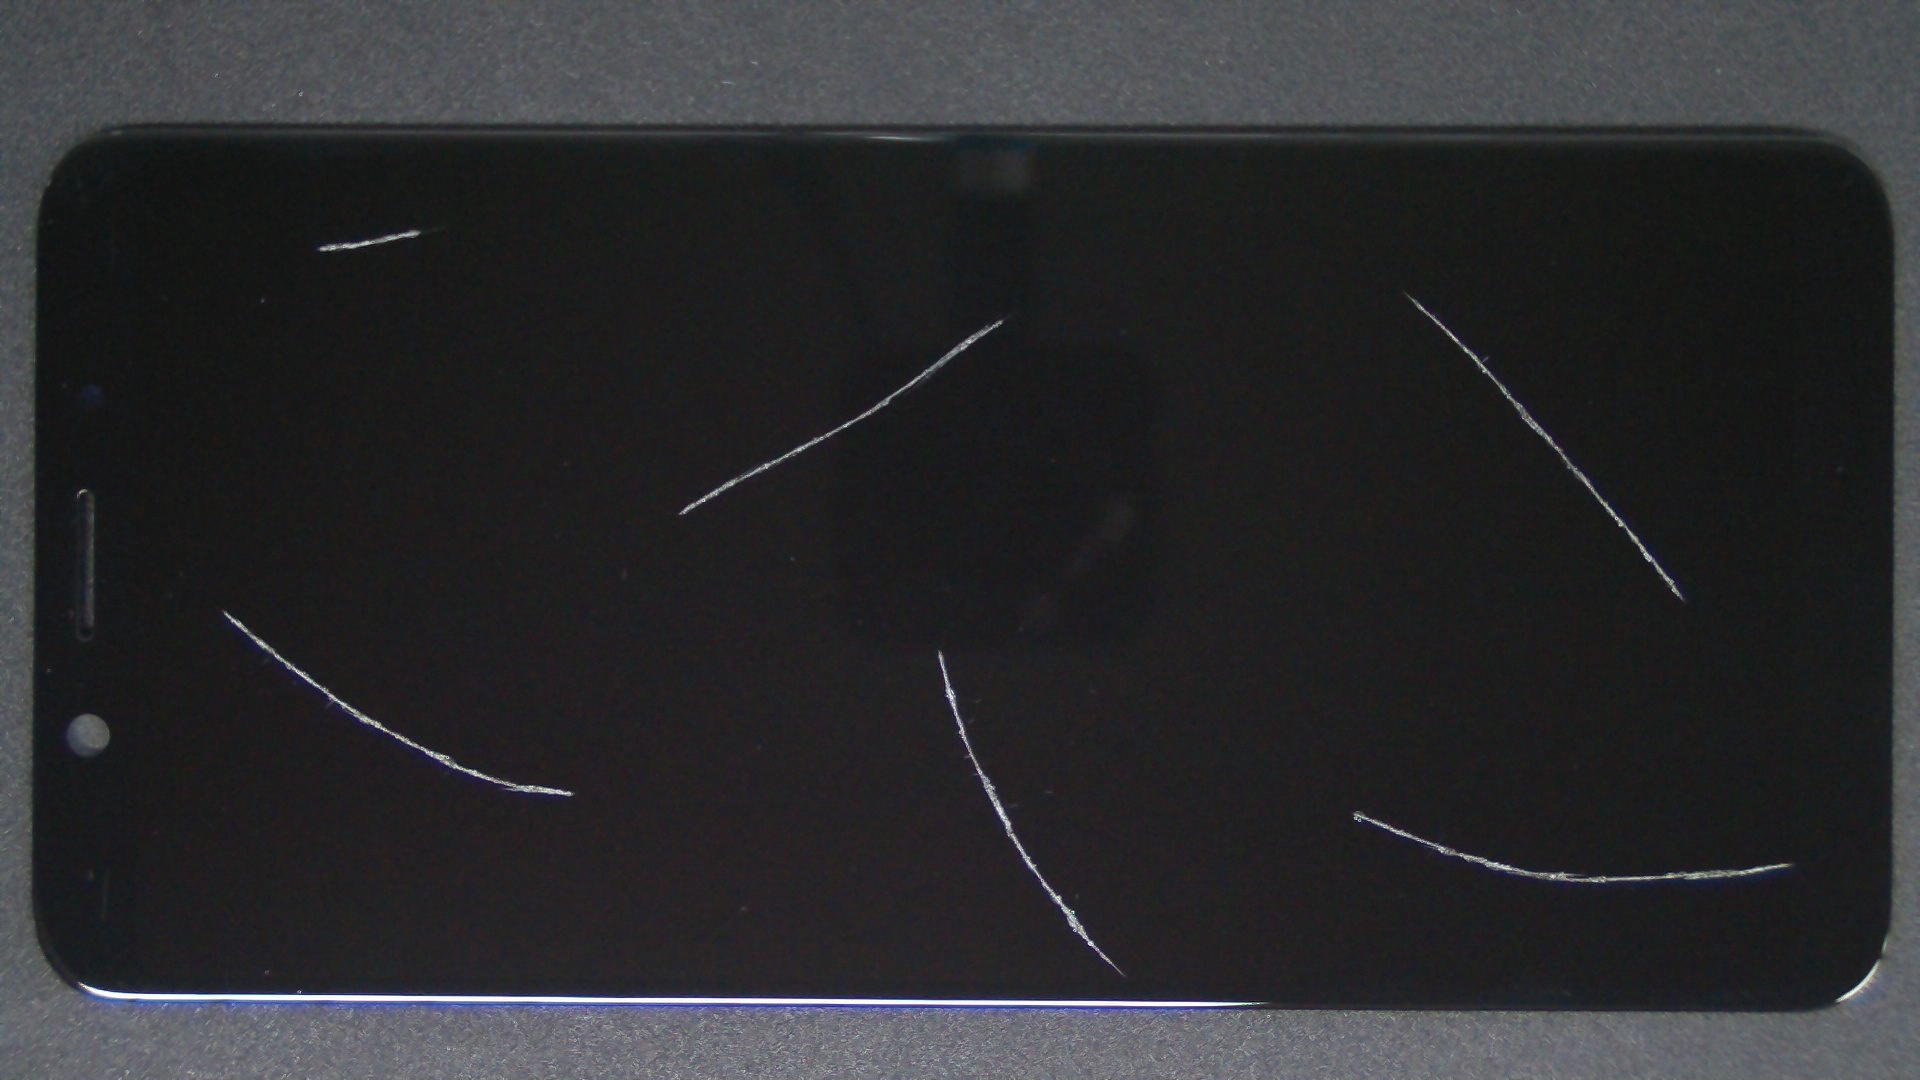oil: (679, 405, 1920, 1080), (471, 323, 1410, 972), (691, 136, 1920, 444), (500, 158, 1494, 480), (111, 303, 335, 913), (206, 113, 612, 343)
